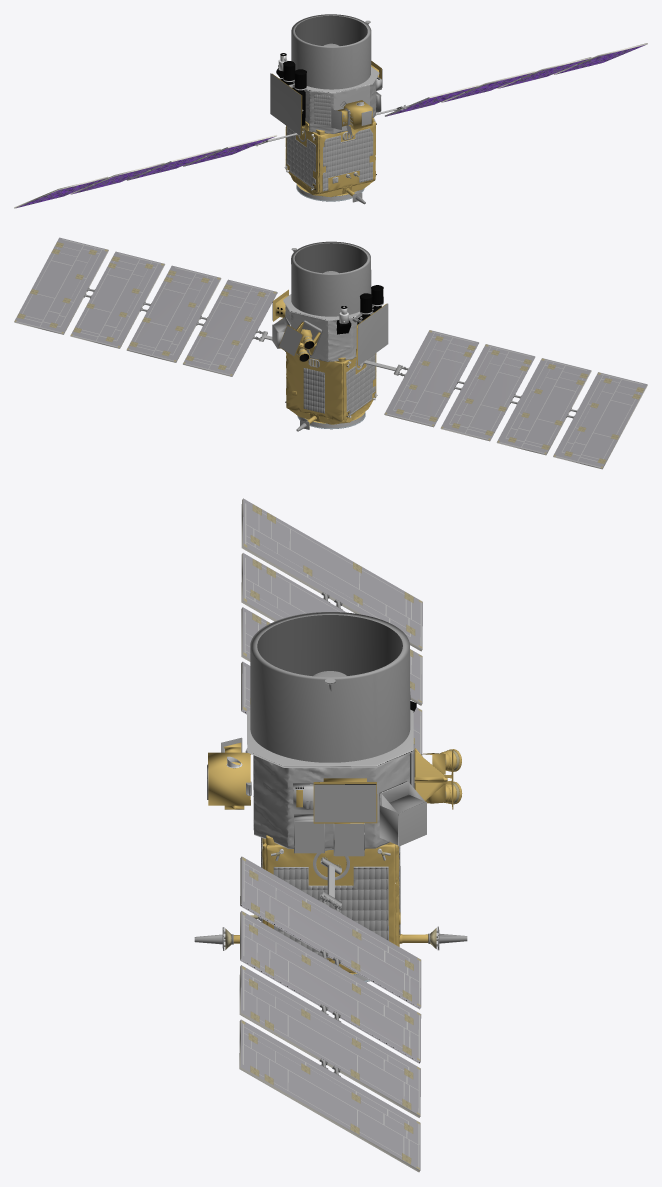
File: Calipso_v016_trip.glb
The picture shows the model from 3 angles, top to bottom: view 1: azimuth 30°, elevation 25°; view 2: azimuth 150°, elevation 25°; view 3: azimuth 270°, elevation 25°; orthographic projection. The views are drawn at different scales.
Visible parts, largest first — view 1: Mesh (×17); view 2: Mesh (×13); view 3: Mesh (×11).
Boxes of the visible parts, x1,y1,x2,y2 form: Mesh (×17): (14, 14, 647, 208); Mesh (×13): (14, 237, 647, 469); Mesh (×11): (194, 498, 467, 1172).
Size of the model in its own units: 95.27 by 24.22 by 19.1.
